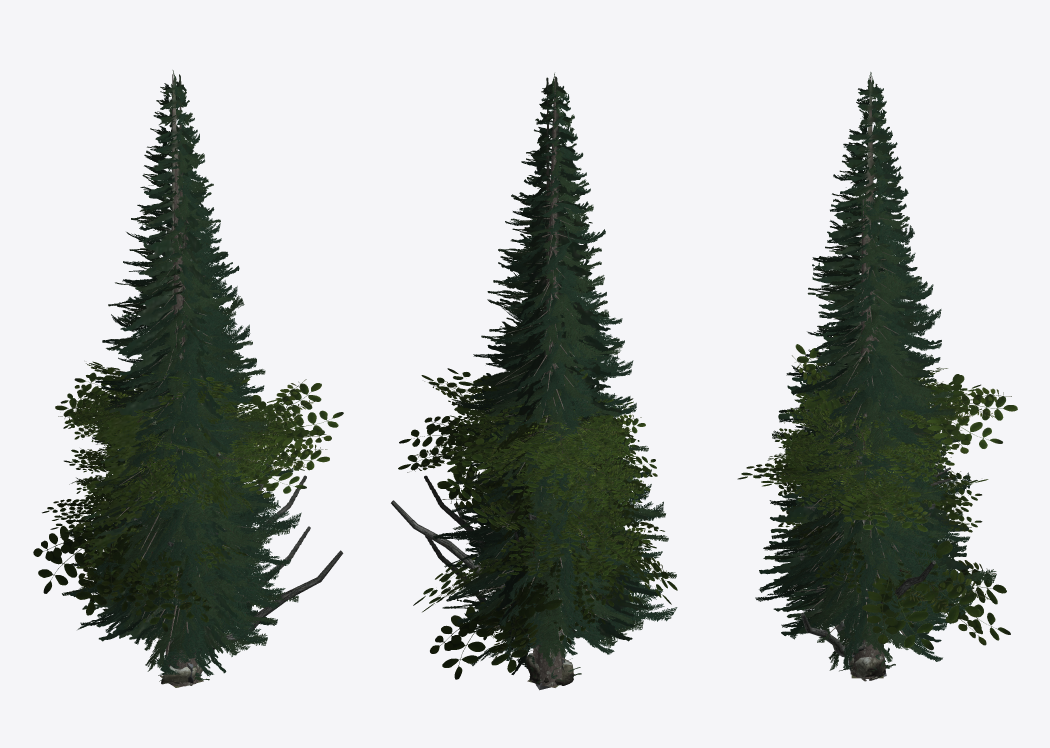
File: nature.glb
The picture shows the model from 3 angles, left to right: view 1: azimuth 30°, elevation 25°; view 2: azimuth 150°, elevation 25°; view 3: azimuth 270°, elevation 25°; orthographic projection. The views are drawn at different scales.
Visible parts, largest first — view 1: pineB_0, pineB_1, leafA_1, leafA_0, pineB_2, pineA_0, pineA_1, leafA_2, pineC_1, pineC_0, pineA_2, deadC_0 (+2 smaller); view 2: pineB_0, leafA_1, leafA_0, pineB_1, pineB_2, pineA_0, leafA_2, pineA_1, pineC_0, pineA_2, pineC_1, deadC_0 (+2 smaller); view 3: pineB_0, leafA_1, pineB_1, leafA_0, pineB_2, pineA_0, pineA_1, pineC_0, pineC_1, leafA_2, pineA_2, deadC_0 (+1 smaller).
Boxes of the visible parts, box(x1,y1,x2,y2) form: pineB_0: box(62, 71, 293, 686); pineB_1: box(75, 70, 301, 686); leafA_1: box(33, 361, 343, 632); leafA_0: box(42, 378, 305, 662); pineB_2: box(70, 74, 269, 625); pineA_0: box(80, 209, 277, 668); pineA_1: box(103, 196, 280, 658); leafA_2: box(66, 376, 287, 662); pineC_1: box(116, 326, 267, 674); pineC_0: box(102, 315, 254, 676); pineA_2: box(94, 194, 274, 653); deadC_0: box(167, 450, 343, 669); pineB_0: box(433, 73, 676, 686); leafA_1: box(398, 357, 677, 679); leafA_0: box(434, 384, 652, 666); pineB_1: box(444, 89, 677, 684); pineB_2: box(461, 76, 660, 625); pineA_0: box(442, 193, 653, 663); leafA_2: box(443, 375, 664, 662); pineA_1: box(454, 190, 632, 644); pineC_0: box(465, 314, 628, 666); pineA_2: box(457, 192, 638, 649); pineC_1: box(471, 328, 643, 660); deadC_0: box(391, 500, 617, 664); pineB_0: box(759, 72, 973, 678); leafA_1: box(737, 335, 1017, 650); pineB_1: box(755, 72, 996, 677); leafA_0: box(769, 375, 982, 627); pineB_2: box(759, 82, 972, 585); pineA_0: box(770, 193, 951, 669); pineA_1: box(780, 194, 961, 646); pineC_0: box(781, 314, 942, 661); pineC_1: box(788, 327, 946, 670); leafA_2: box(769, 373, 976, 601); pineA_2: box(769, 194, 960, 624); deadC_0: box(801, 467, 950, 656).
Bounding box in the file's own units: 10.45 × 21.01 × 9.9.
14 materials, 14 textured.
